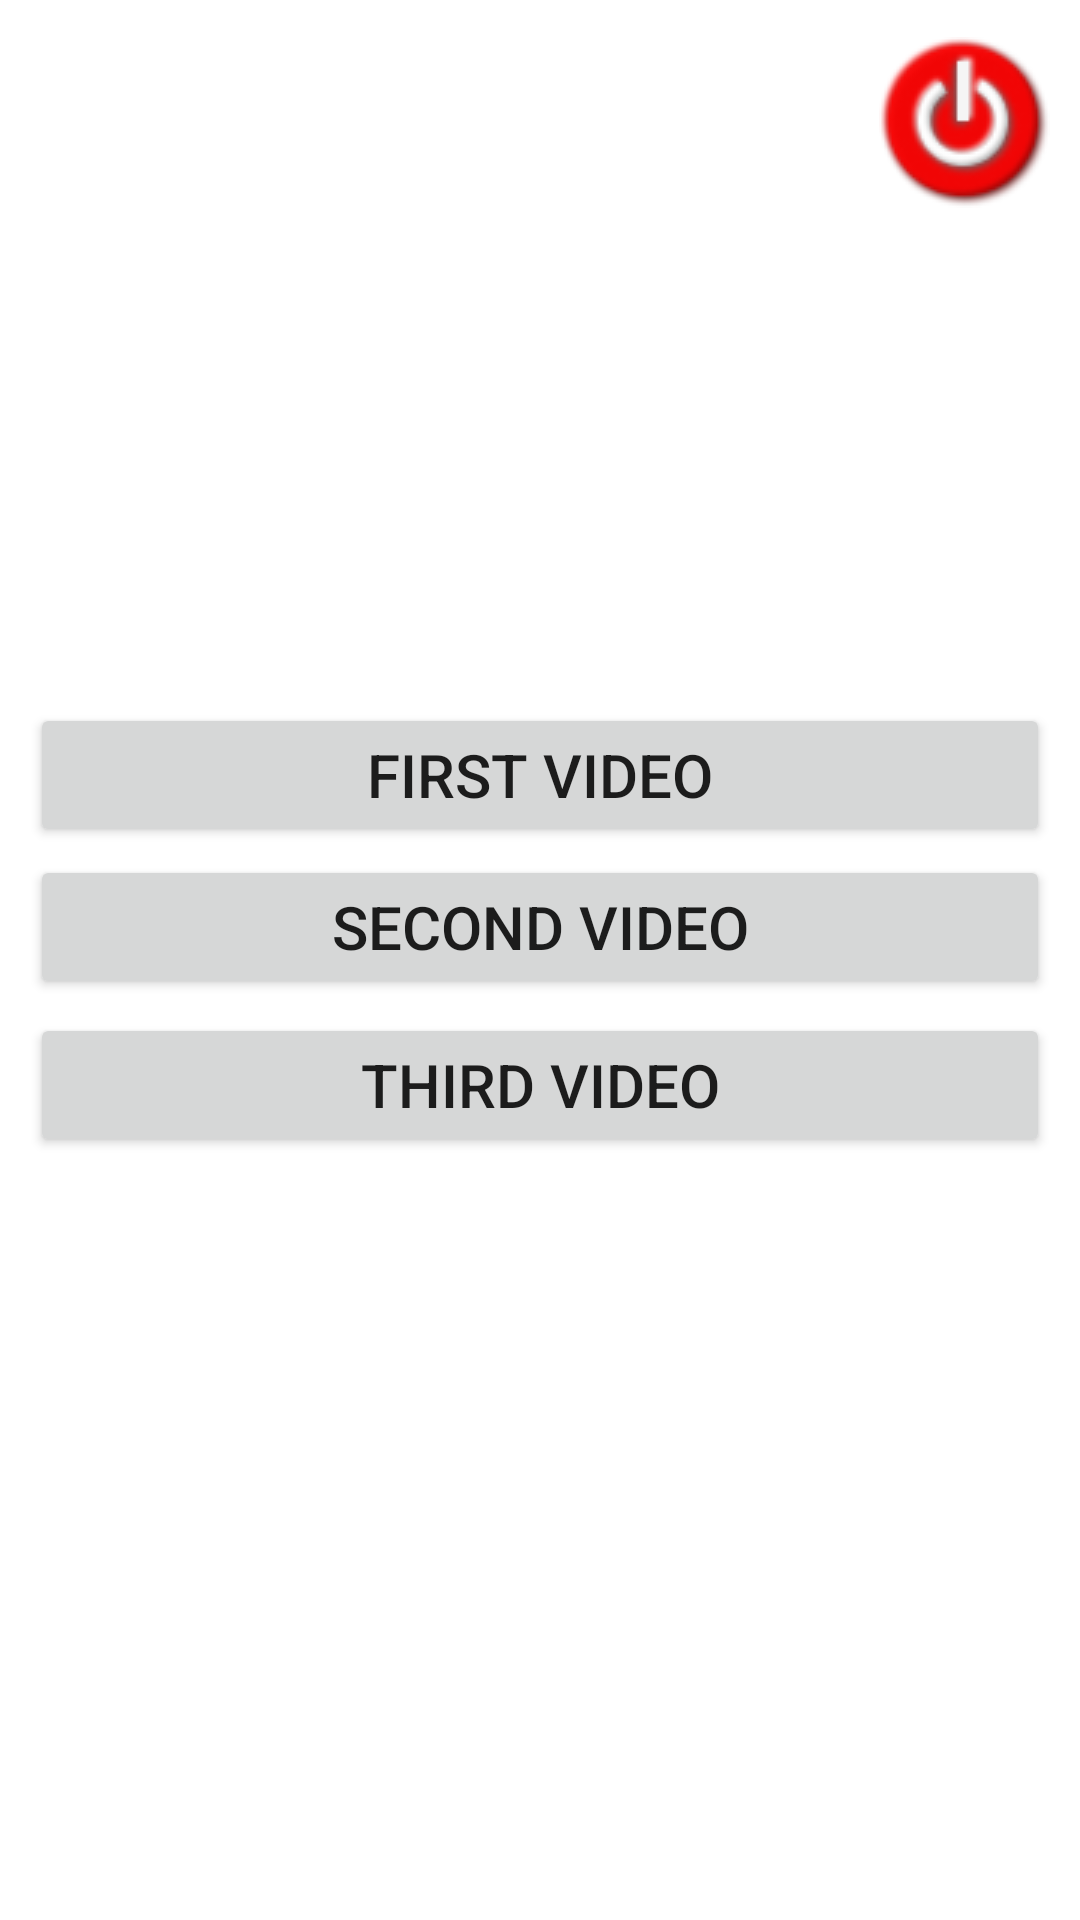

Icons on this 1080×1920 Android screen, each with the point to tap as (x,y):
signout: (963,121)
